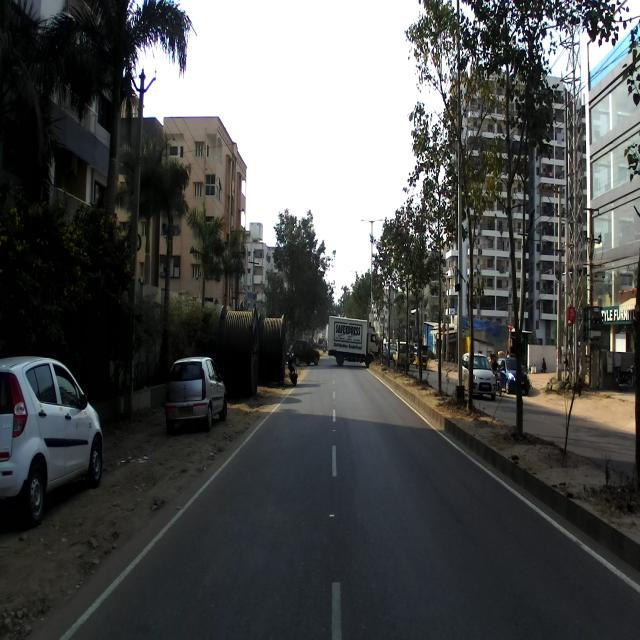car ahead at: (0, 348, 106, 522), (167, 356, 228, 428)
